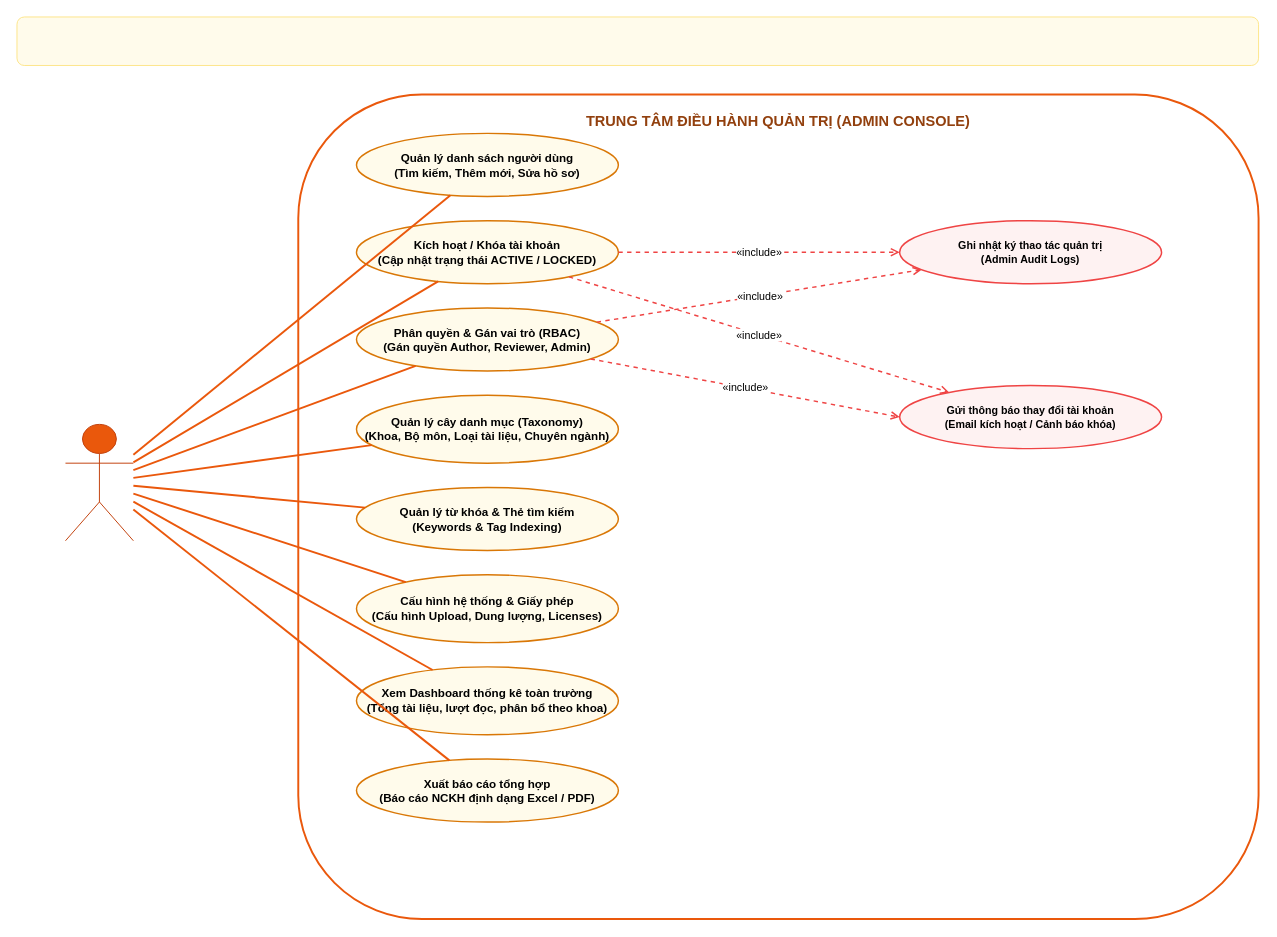
Image size: 1277x937. Some labels were removed from this diagram. Each missing label, with the centre of its shape:
"Quản trị viên (System Admin)" goes at (99,482).
"SƠ ĐỒ USE CASE: PHÂN HỆ QUẢN TRỊ VIÊN HỆ THỐNG (ADMIN)" goes at (637,40).
